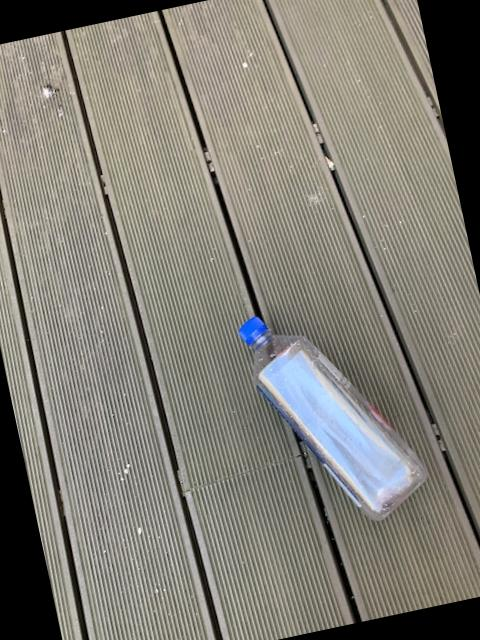plastic: (238, 319, 426, 521)
